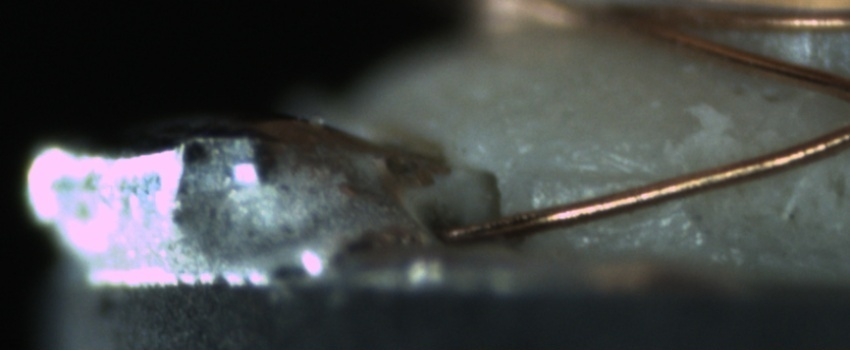DL: (527, 142, 669, 203)
